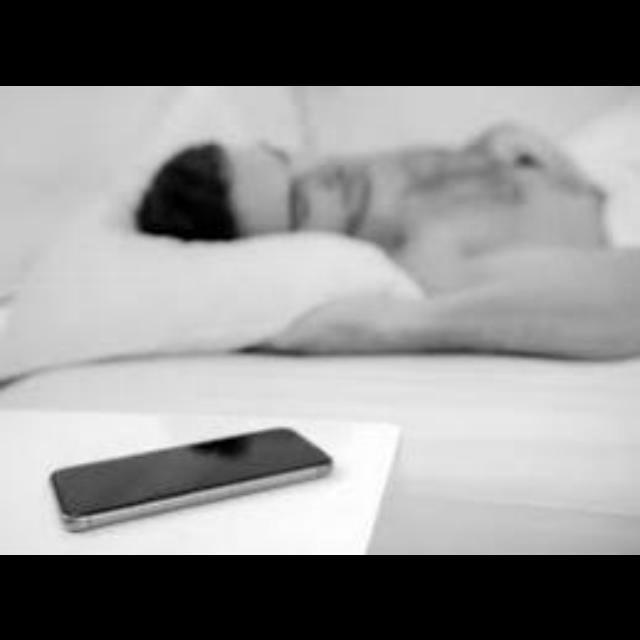fake: (48, 409, 336, 526)
